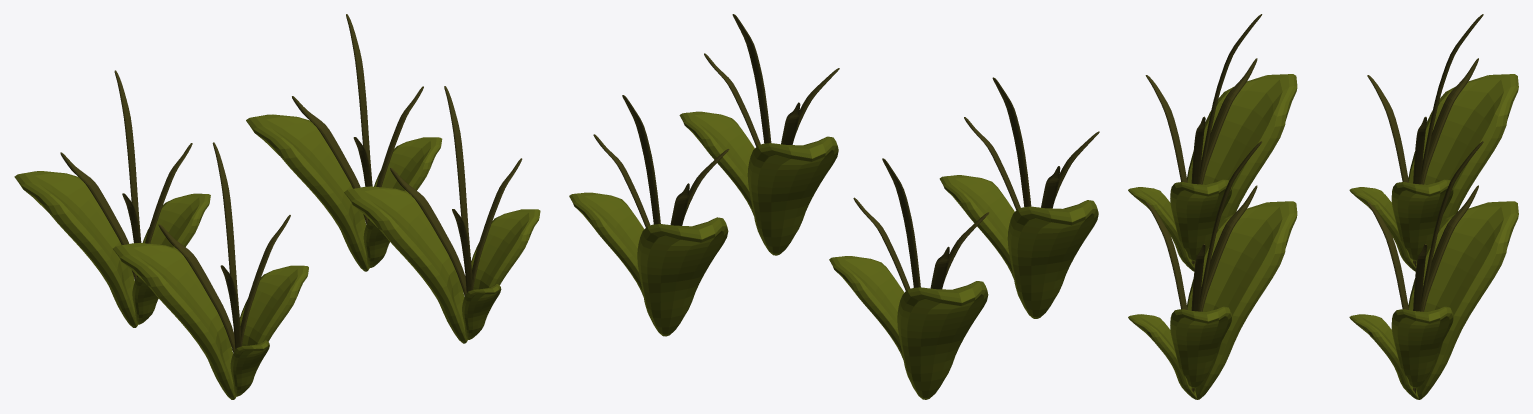
File: Rice plant 3.fbx
3 renders of one model, left to right at view 1: azimuth 30°, elevation 25°; view 2: azimuth 150°, elevation 25°; view 3: azimuth 270°, elevation 25°, orthographic. The views are drawn at different scales.
Parts seen in each view (by area): view 1: Cube.003, Cube.007, Cube.005, Cube.008, Cube.001, Cube.002, Cube.006, Cube.004; view 2: Cube.005, Cube.008, Cube.007, Cube.003, Cube.004, Cube.002, Cube.006, Cube.001; view 3: Cube.008, Cube.003, Cube.007, Cube.005, Cube.006, Cube.001, Cube.002, Cube.004.
Part boxes in pixels (x1=…): Cube.003: x1=344, y1=186, x2=540, y2=343; Cube.007: x1=113, y1=243, x2=308, y2=399; Cube.005: x1=14, y1=171, x2=210, y2=327; Cube.008: x1=246, y1=114, x2=442, y2=271; Cube.001: x1=158, y1=142, x2=290, y2=352; Cube.002: x1=390, y1=86, x2=522, y2=296; Cube.006: x1=292, y1=14, x2=423, y2=224; Cube.004: x1=60, y1=70, x2=192, y2=280; Cube.005: x1=829, y1=256, x2=988, y2=399; Cube.008: x1=569, y1=192, x2=728, y2=336; Cube.007: x1=939, y1=175, x2=1098, y2=318; Cube.003: x1=679, y1=111, x2=838, y2=255; Cube.004: x1=853, y1=158, x2=989, y2=290; Cube.002: x1=704, y1=14, x2=839, y2=146; Cube.006: x1=593, y1=95, x2=729, y2=227; Cube.001: x1=964, y1=77, x2=1099, y2=209; Cube.008: x1=1349, y1=201, x2=1518, y2=399; Cube.003: x1=1128, y1=201, x2=1297, y2=399; Cube.007: x1=1128, y1=74, x2=1297, y2=271; Cube.005: x1=1349, y1=74, x2=1518, y2=271; Cube.006: x1=1367, y1=141, x2=1483, y2=393; Cube.001: x1=1145, y1=14, x2=1262, y2=266; Cube.002: x1=1146, y1=141, x2=1261, y2=393; Cube.004: x1=1367, y1=14, x2=1483, y2=266.
Bounding box in the file's own units: 284 × 162 × 218.
